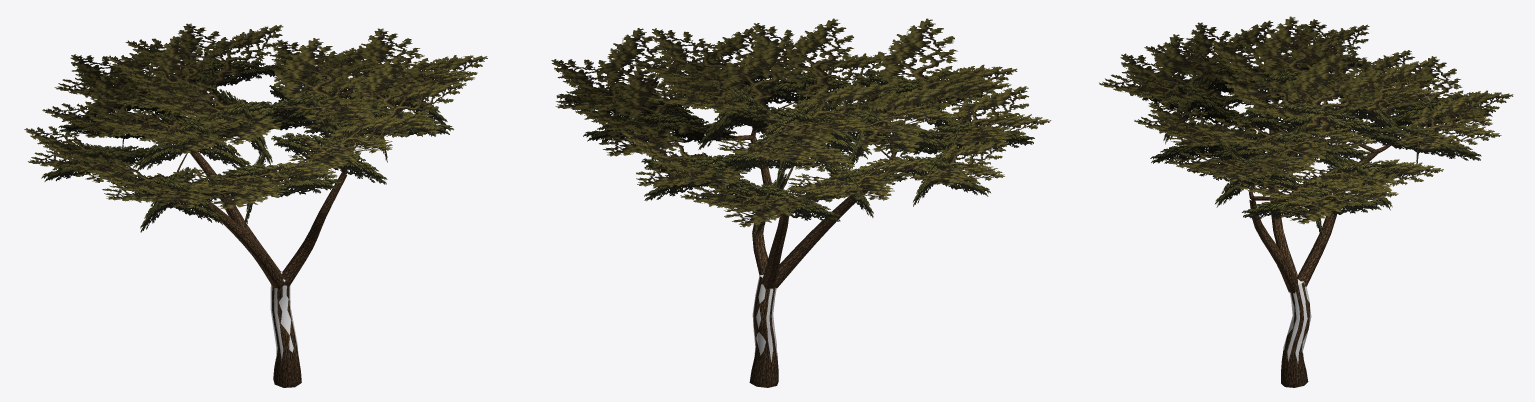
Rendered from Acacia-01-Guarda-Sol.glb.
The picture shows the model from 3 angles, left to right: view 1: azimuth 30°, elevation 25°; view 2: azimuth 150°, elevation 25°; view 3: azimuth 270°, elevation 25°; orthographic projection. The views are drawn at different scales.
Parts seen in each view (by area): view 1: Acacia-01-Guarda-Sol, Acacia-01-Guarda-Sol_COL; view 2: Acacia-01-Guarda-Sol, Acacia-01-Guarda-Sol_COL; view 3: Acacia-01-Guarda-Sol, Acacia-01-Guarda-Sol_COL.
Part boxes in pixels (x1,y1,x2,y2): Acacia-01-Guarda-Sol: [24, 23, 487, 387]; Acacia-01-Guarda-Sol_COL: [270, 271, 298, 360]; Acacia-01-Guarda-Sol: [551, 18, 1051, 387]; Acacia-01-Guarda-Sol_COL: [752, 274, 776, 361]; Acacia-01-Guarda-Sol: [1099, 16, 1513, 387]; Acacia-01-Guarda-Sol_COL: [1283, 279, 1311, 363].
Size of what is drawn, in the model's own units: 12.93 by 8.26 by 11.48.
Materials: 3 (3 with a texture image).
